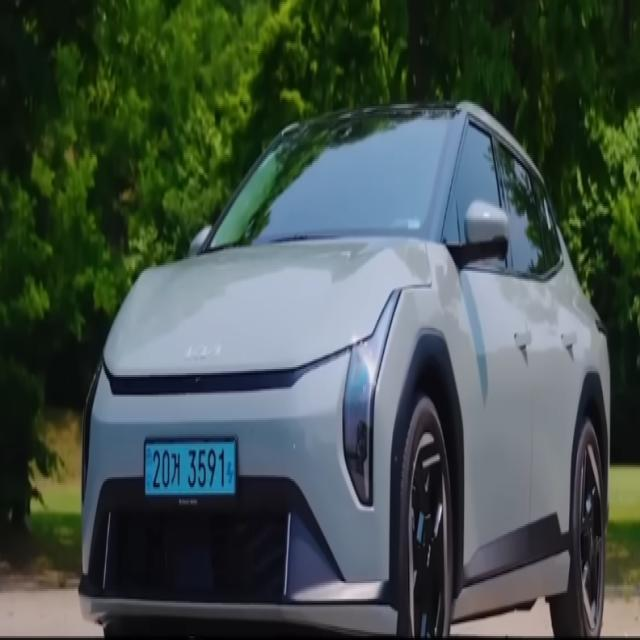car: (128, 423, 263, 524)
carev: (224, 432, 241, 508), (141, 436, 154, 504)
